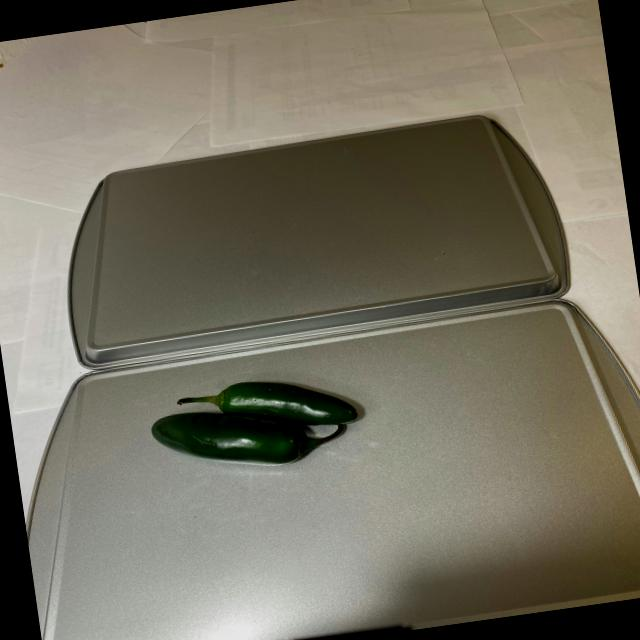chilli: (134, 368, 376, 491)
